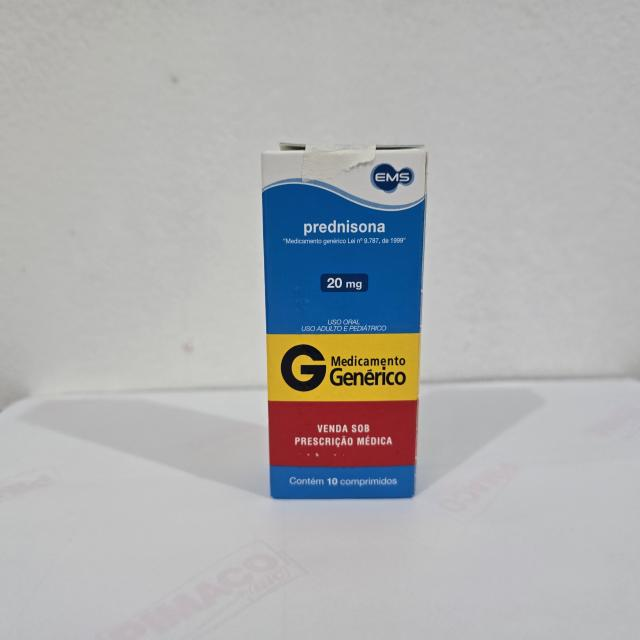prednisona: (254, 135, 431, 506)
